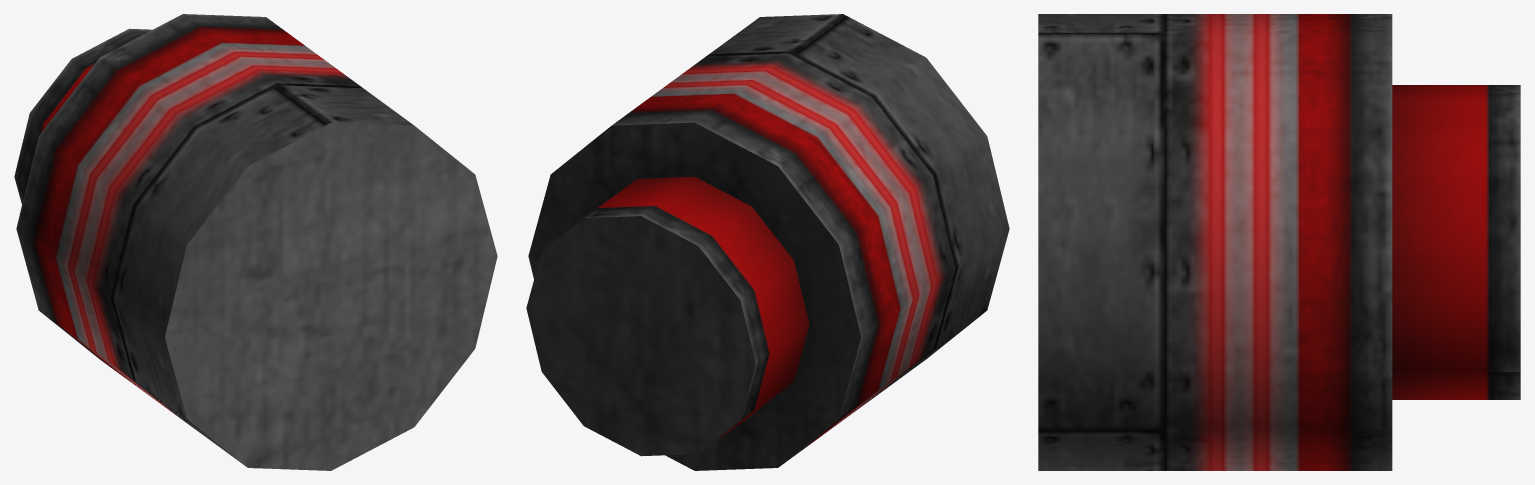
File: pie_particulas.fbx
The picture shows the model from 3 angles, left to right: view 1: azimuth 30°, elevation 25°; view 2: azimuth 150°, elevation 25°; view 3: azimuth 270°, elevation 25°; orthographic projection. The views are drawn at different scales.
Parts seen in each view (by area): view 1: pie_particulas; view 2: pie_particulas; view 3: pie_particulas.
Part boxes in pixels (x1,y1,x2,y2): pie_particulas: (14, 14, 497, 470); pie_particulas: (526, 14, 1009, 470); pie_particulas: (1038, 14, 1520, 470).
Size of the model in its own units: 0.6826 by 0.6826 by 0.7177.
